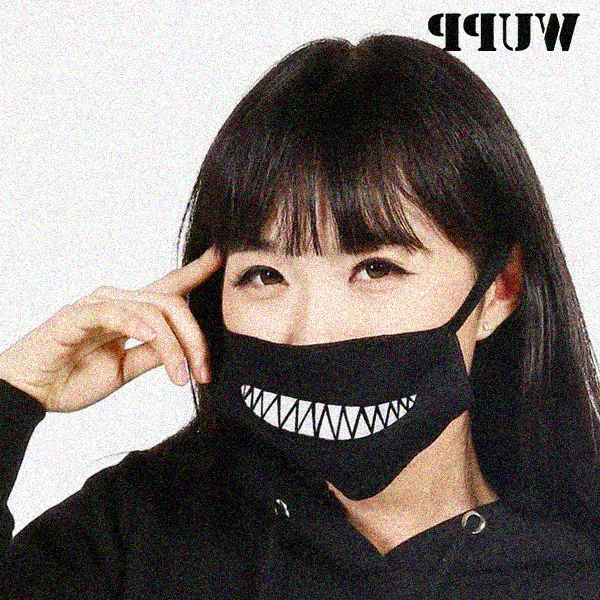with_mask: (216, 227, 479, 495)
